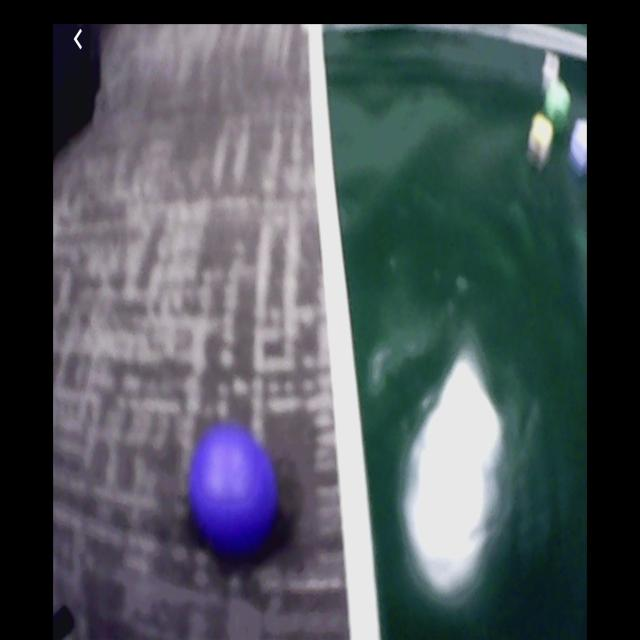ball: (191, 423, 278, 550)
